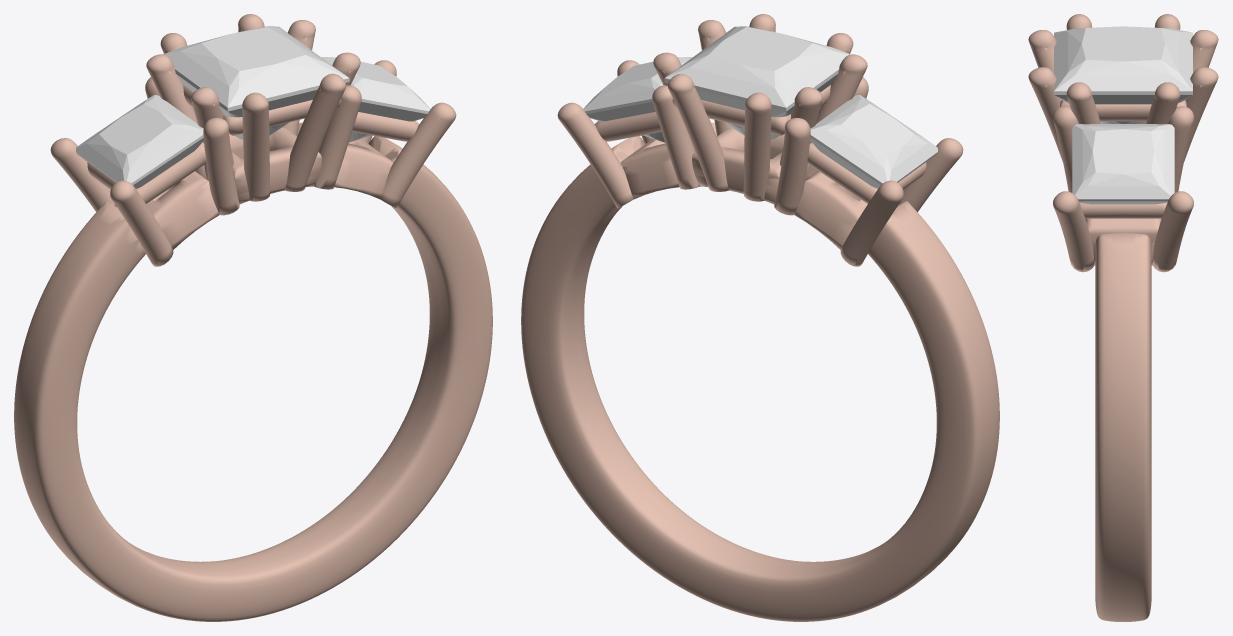
Rendered from diamond-princess-rosegold-8prong-straightband-3stone.glb.
3 views of the same model, side by side, from view 1: azimuth 30°, elevation 25°; view 2: azimuth 150°, elevation 25°; view 3: azimuth 270°, elevation 25° (orthographic).
Parts seen in each view (by area): view 1: metal, stone, side, side.001; view 2: metal, stone, side, side.001; view 3: metal, stone, side.001.
Part boxes in pixels (<box>): metal: <box>14,14,492,621</box>; stone: <box>163,26,349,139</box>; side: <box>76,95,203,188</box>; side.001: <box>321,57,430,142</box>; metal: <box>521,14,999,621</box>; stone: <box>664,26,850,139</box>; side: <box>810,95,937,188</box>; side.001: <box>583,57,692,142</box>; metal: <box>1028,14,1218,621</box>; stone: <box>1054,26,1192,123</box>; side.001: <box>1072,124,1174,204</box>.
Size of the model in its own units: 20.51 by 23.85 by 7.42.
